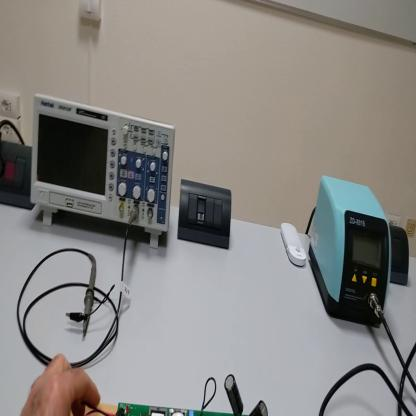hand: (24, 355, 102, 416)
high voltage board: (83, 376, 268, 416)
oscilloscope: (33, 93, 176, 252)
oscilloscope probe tip: (84, 261, 98, 338)
socket: (2, 140, 37, 213), (391, 224, 411, 289)
welder station: (311, 177, 393, 331)
working area: (84, 401, 119, 412)
